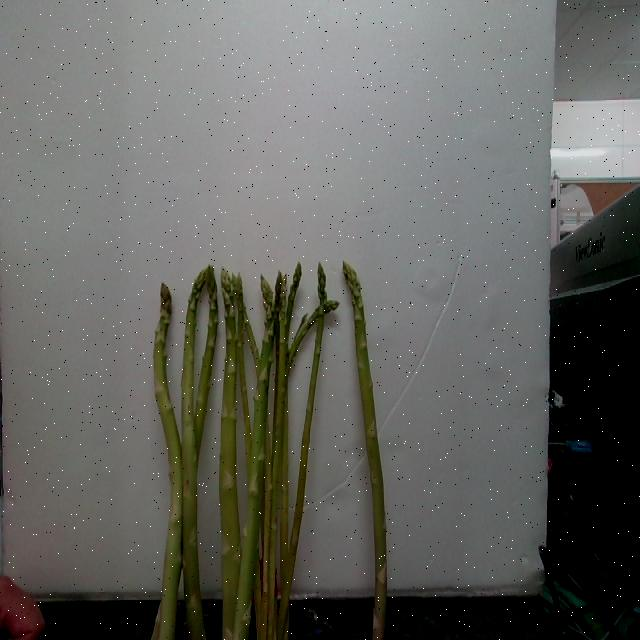aspargus: (344, 264, 390, 640), (151, 285, 186, 640)
